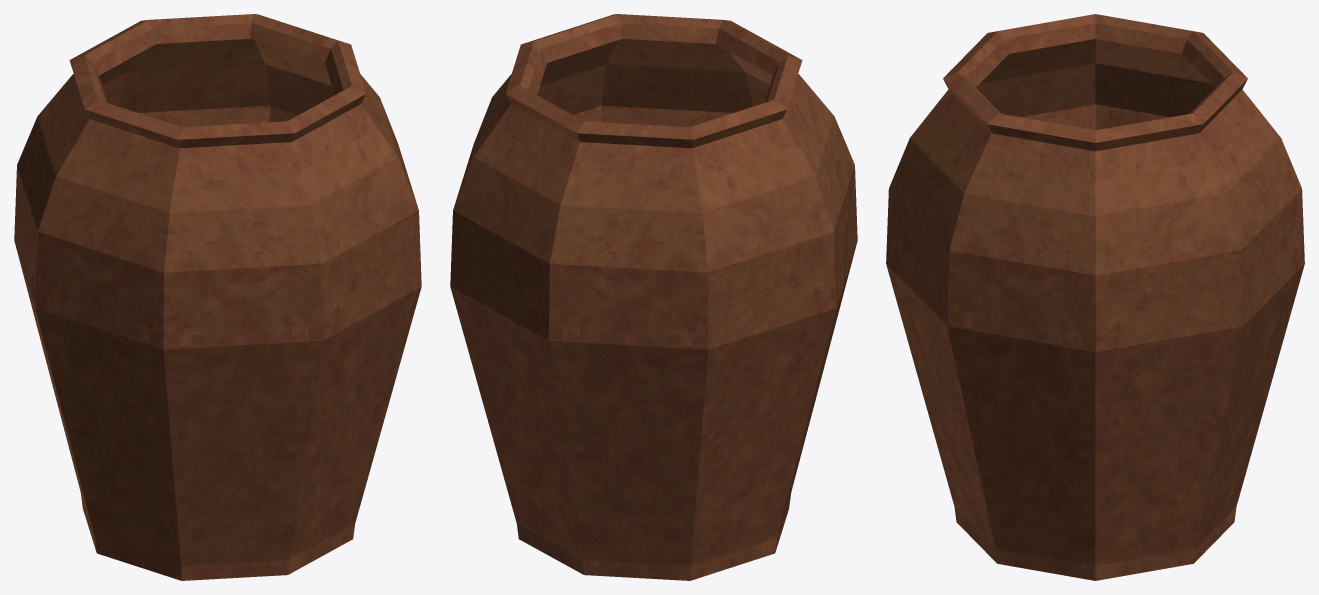
Rendered from terracotta_vase_open_small.glb.
The picture shows the model from 3 angles, left to right: view 1: azimuth 30°, elevation 25°; view 2: azimuth 150°, elevation 25°; view 3: azimuth 270°, elevation 25°; orthographic projection.
Parts seen in each view (by area): view 1: terracotta_vase_open_small; view 2: terracotta_vase_open_small; view 3: terracotta_vase_open_small.
Boxes of the visible parts, x1,y1,x2,y2 form: terracotta_vase_open_small: (14,14,421,580); terracotta_vase_open_small: (450,14,857,580); terracotta_vase_open_small: (886,14,1304,580).
Bounding box in the file's own units: 0.6589 × 0.7812 × 0.6589.
Materials: 1 (1 with a texture image).
